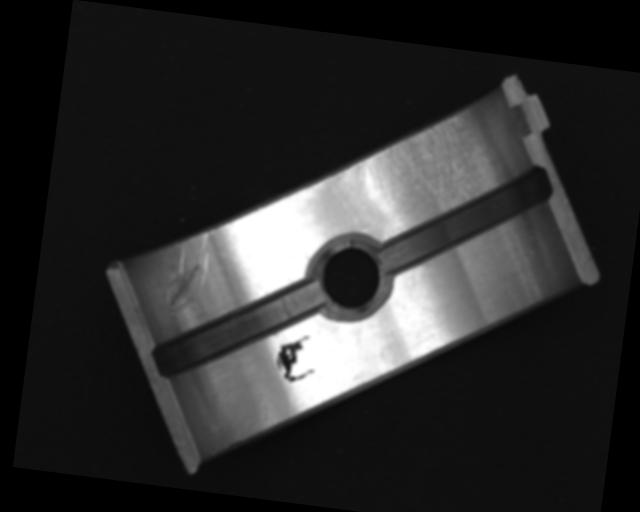blot: (272, 325, 320, 386)
gap: (376, 147, 555, 292), (149, 261, 326, 395)
hole: (302, 230, 398, 326)
nick: (158, 223, 212, 320)
scratch: (334, 93, 510, 218)
